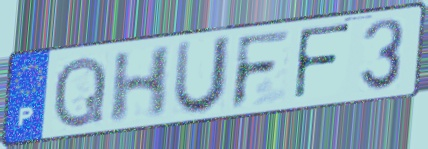3: (358, 18, 405, 94)
F: (228, 27, 294, 112), (291, 21, 354, 103)
H: (106, 43, 176, 127)
Q: (50, 53, 110, 131)
U: (169, 33, 235, 118)
